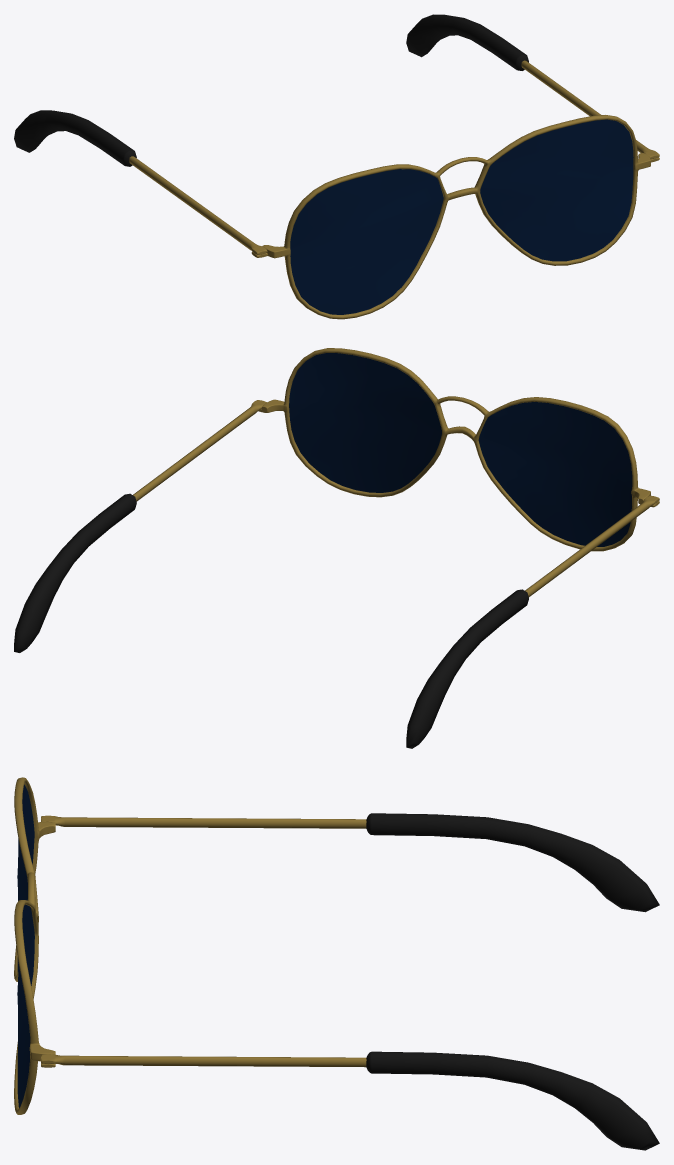
Rendered from aviator_fixed_origin.glb.
3 views of the same model, one above another, from view 1: azimuth 30°, elevation 25°; view 2: azimuth 150°, elevation 25°; view 3: azimuth 270°, elevation 25° (orthographic). The views are drawn at different scales.
Visible parts, largest first — view 1: Aviator_Lens_R, Aviator_Lens_L, Aviators_Aviators_Frame, Aviators_earpiece_L, Aviators_earpiece_R, Aviators_arm_R, Aviators_arm_L; view 2: Aviator_Lens_L, Aviator_Lens_R, Aviators_Aviators_Frame, Aviators_earpiece_L, Aviators_earpiece_R, Aviators_arm_R, Aviators_arm_L; view 3: Aviators_earpiece_R, Aviators_earpiece_L, Aviators_Aviators_Frame, Aviators_arm_L, Aviators_arm_R, Aviator_Lens_L, Aviator_Lens_R.
Boxes of the visible parts, x1,y1,x2,y2 form: Aviator_Lens_R: (290,169,443,314); Aviator_Lens_L: (480,119,633,261); Aviators_Aviators_Frame: (251,115,659,319); Aviators_earpiece_L: (406,14,528,70); Aviators_earpiece_R: (14,110,136,166); Aviators_arm_R: (129,156,267,254); Aviators_arm_L: (521,60,659,159); Aviator_Lens_L: (289,353,441,492); Aviator_Lens_R: (478,402,632,546); Aviators_Aviators_Frame: (258,348,659,551); Aviators_earpiece_L: (14,493,136,652); Aviators_earpiece_R: (406,589,528,748); Aviators_arm_R: (525,495,659,597); Aviators_arm_L: (133,400,266,501); Aviators_earpiece_R: (366,813,659,912); Aviators_earpiece_L: (366,1051,659,1150); Aviators_Aviators_Frame: (14,777,55,1114); Aviators_arm_L: (41,1054,366,1067); Aviators_arm_R: (41,815,366,828); Aviator_Lens_L: (17,904,34,1107); Aviator_Lens_R: (17,784,34,972).
Bounding box in the file's own units: 19.31 × 6.46 × 21.16.
